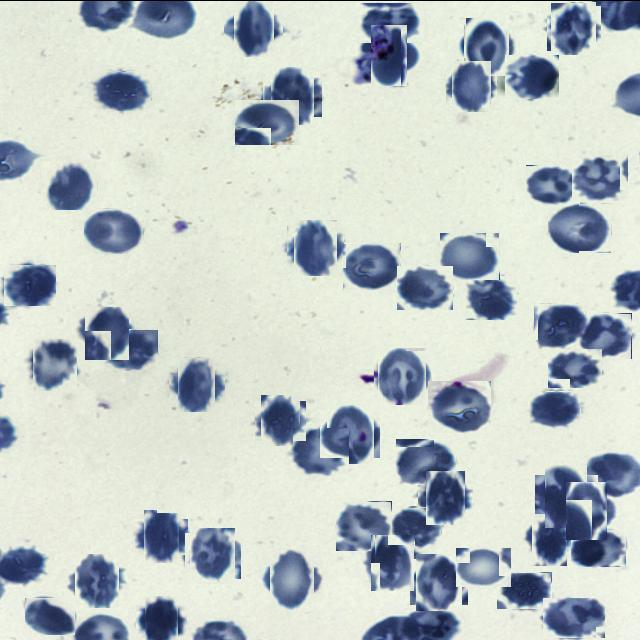red blood cell: (428, 380, 491, 432), (548, 202, 612, 252), (235, 98, 300, 144), (323, 406, 377, 461), (440, 231, 500, 279), (266, 552, 319, 605), (376, 349, 429, 402), (540, 469, 593, 522), (42, 158, 96, 210), (396, 438, 457, 484), (336, 500, 392, 550), (84, 207, 144, 253), (460, 19, 512, 72), (293, 427, 349, 476), (572, 152, 629, 200), (343, 242, 401, 289), (413, 555, 465, 607), (267, 69, 318, 120), (543, 596, 606, 637), (360, 1, 421, 42), (188, 530, 238, 580), (290, 222, 340, 272), (368, 537, 418, 587), (562, 486, 612, 536), (397, 265, 453, 309), (229, 2, 278, 52), (82, 307, 131, 357), (548, 3, 598, 52), (580, 312, 632, 358), (505, 54, 559, 98), (104, 328, 159, 371), (93, 70, 152, 110), (72, 556, 121, 604), (364, 30, 413, 78), (534, 302, 585, 348), (31, 339, 78, 388), (466, 275, 517, 319), (456, 546, 512, 586), (4, 263, 57, 305), (526, 164, 580, 205), (422, 473, 469, 520), (548, 348, 603, 388), (571, 528, 627, 566), (173, 361, 220, 406), (258, 397, 303, 443), (497, 571, 552, 608), (448, 64, 494, 108), (392, 506, 442, 546), (139, 514, 184, 558), (25, 596, 76, 634), (528, 516, 572, 560), (530, 390, 581, 426), (141, 599, 183, 640)
